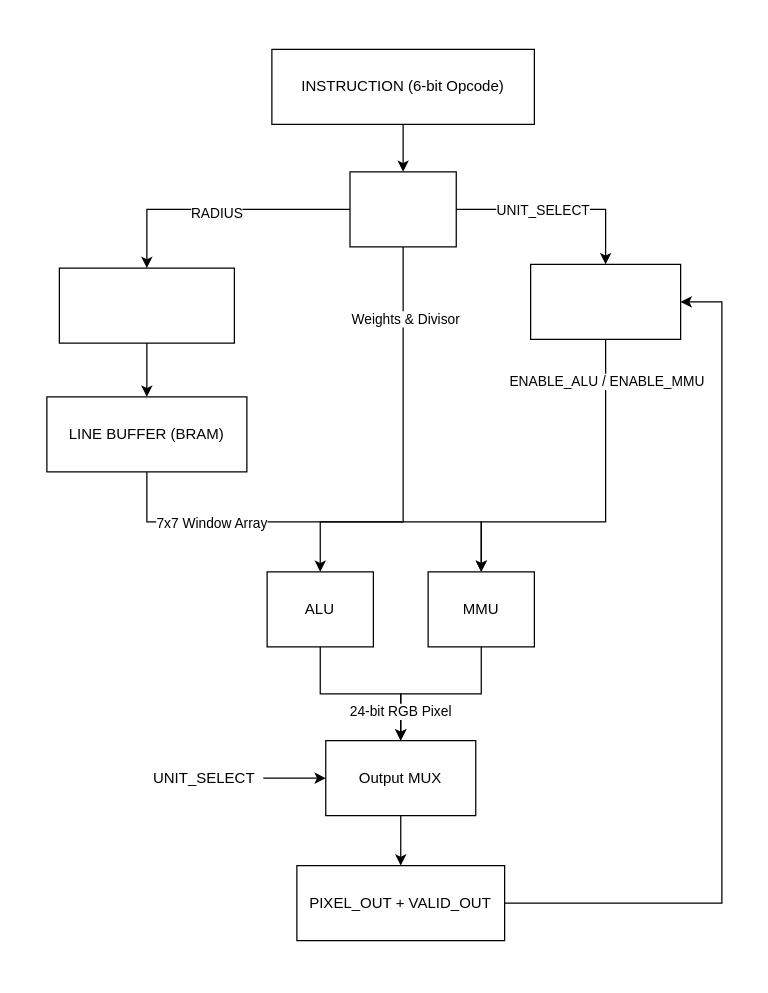
The diagram is 768 pixels wide and 993 high, and some of its shapes have lost their labels. The centre of each missing label's shape, as x and y in pixels:
Control FSM: the point at 605,301
Decoder: the point at 402,209
PIXEL_IN + VALID_IN: the point at 146,305
